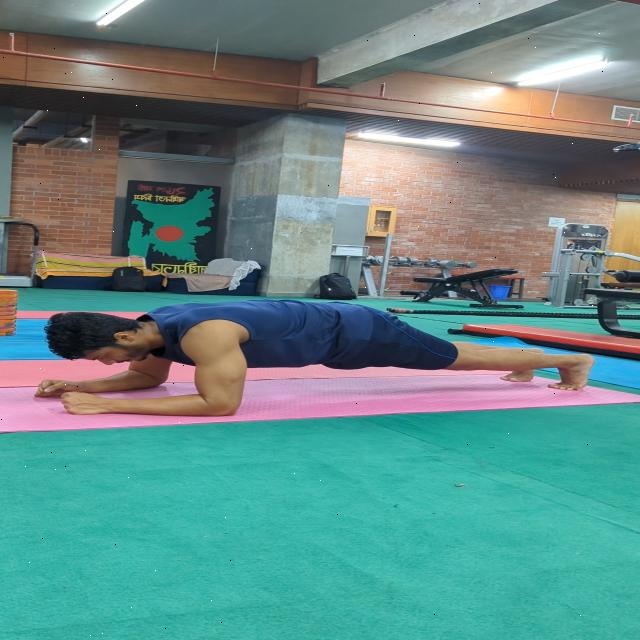Normal_Plunk: (22, 289, 614, 442)
